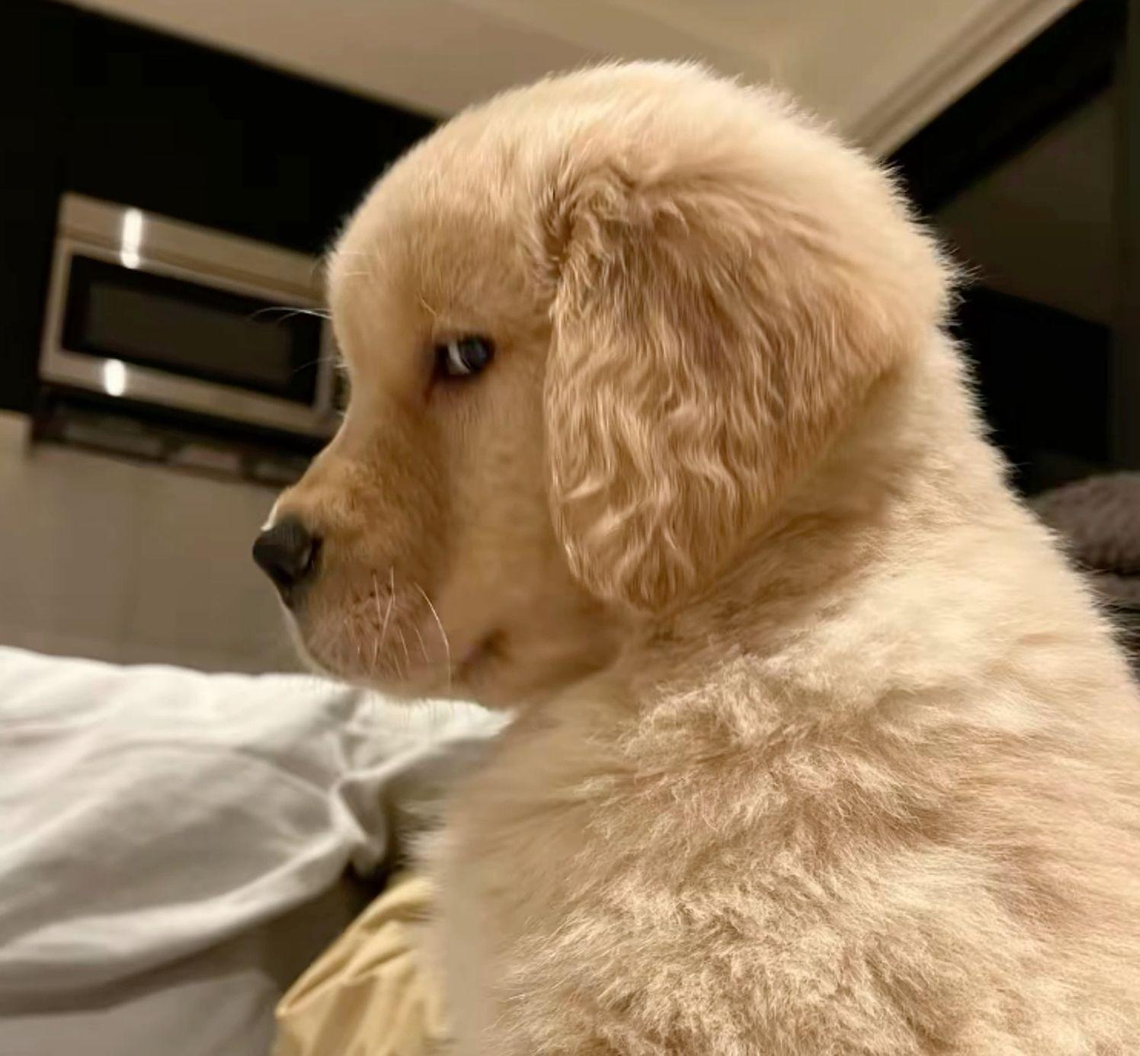puppy-dog: (251, 58, 1140, 1056)
